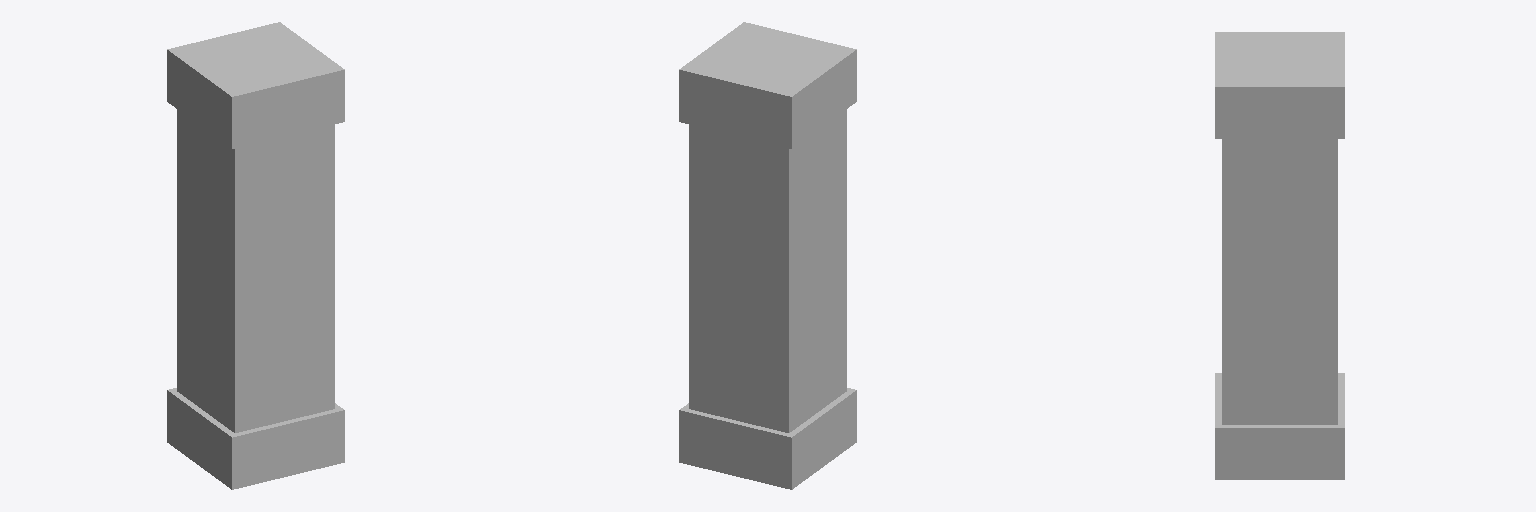
Rendered from column.obj.
The picture shows the model from 3 angles: view 1: azimuth 30°, elevation 25°; view 2: azimuth 150°, elevation 25°; view 3: azimuth 270°, elevation 25°; orthographic projection.
Parts seen in each view (by area): view 1: Cube.009, Cube.031, Cube.030; view 2: Cube.009, Cube.031, Cube.030; view 3: Cube.009, Cube.031, Cube.030.
Part boxes in pixels (left/top/right/bottom): Cube.009: left=177, top=109, right=334, bottom=432; Cube.031: left=167, top=22, right=344, bottom=148; Cube.030: left=167, top=388, right=344, bottom=489; Cube.009: left=689, top=109, right=846, bottom=432; Cube.031: left=679, top=22, right=856, bottom=148; Cube.030: left=679, top=388, right=856, bottom=489; Cube.009: left=1222, top=139, right=1337, bottom=424; Cube.031: left=1215, top=32, right=1344, bottom=138; Cube.030: left=1215, top=373, right=1344, bottom=479.
Size of the model in its own units: 0.9 by 3 by 0.9.